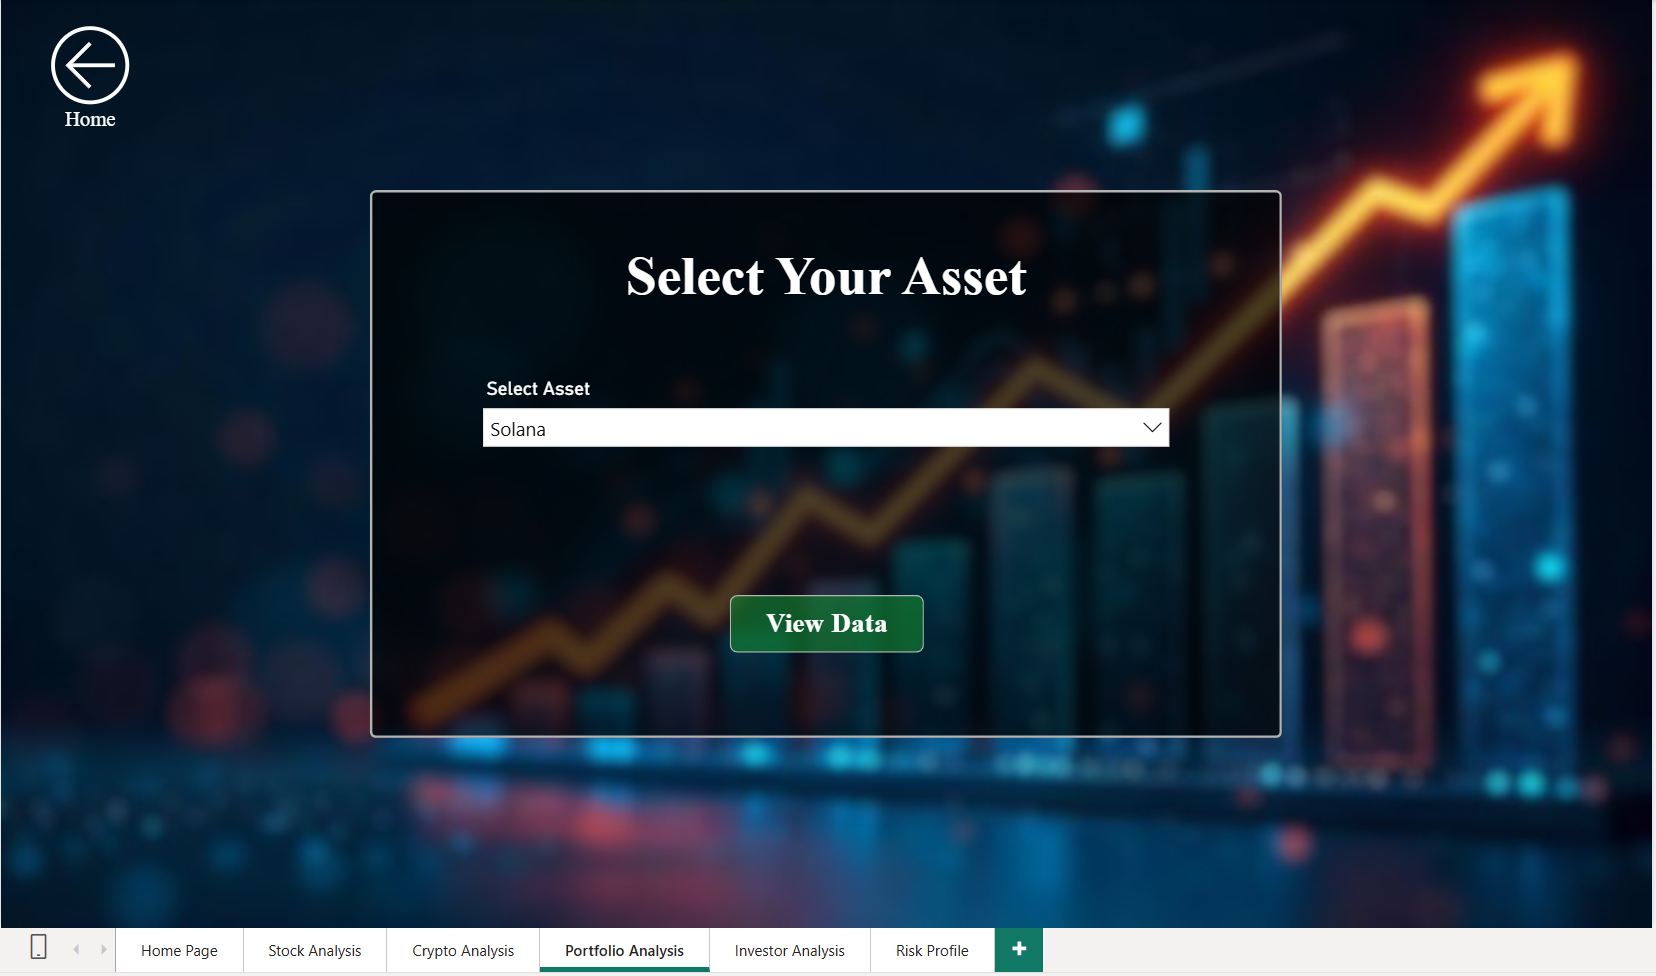

This screenshot's page, from the dashboard's own definition file:
{"tool":"powerbi","page":{"name":"Portfolio Analysis","canvas":[1280,720],"ordinal":3},"visuals":[{"type":"imageDB603108E3FF4EBFB8047F5653368E8C","fields":{"imageUrl":["Dim_Assets.Logo"]},"box":[1063.7,10,207.5,220],"z":0,"group":"g1"},{"type":"group","id":"g1","title":"Dashboard","box":[9,10,1262.2,701.2],"z":1000},{"type":"card","title":"A","fields":{"Values":["Avg(Facts_stock.Open)"]},"box":[9,111.8,227.6,116.4],"z":1000,"group":"g1"},{"type":"card","fields":{"Values":["Avg(Facts_stock.Close)"]},"box":[281.3,111.8,227.6,118.5],"z":2000,"group":"g1"},{"type":"card","fields":{"Values":["Max(Facts_stock.High)"]},"box":[553.6,111.8,227.6,118.5],"z":3000,"group":"g1"},{"type":"card","fields":{"Values":["Min(Facts_stock.Low)"]},"box":[825.9,111.8,227.6,118.5],"z":4000,"group":"g1"},{"type":"lineChart","title":"Closing Price Trend","fields":{"Category":["Facts_stock.Date"],"Y":["Avg(Facts_stock.Close)"]},"box":[10,240,1261.2,471.2],"z":5000,"group":"g1"},{"type":"card","fields":{"Values":["Min(Dim_Assets.AssetName)"]},"box":[397,21.6,487.2,74.4],"z":6000,"group":"g1"},{"type":"actionButton","box":[33.7,10,76.2,86.2],"z":7000,"group":"g1"}]}

Visuals, with their boxes on the page's 1280x720 design canvas (x1, y1, x2, y2). These are canvas units, not pixel positions in the 1656x976 screenshot, which may show the page scaled, cropped or inside an application window:
imageDB603108E3FF4EBFB8047F5653368E8C - Dim_Assets.Logo: [x1=1064, y1=10, x2=1271, y2=230]
"Dashboard" group: [x1=9, y1=10, x2=1271, y2=711]
"A" card: [x1=9, y1=112, x2=237, y2=228]
card - Avg(Facts_stock.Close): [x1=281, y1=112, x2=509, y2=230]
card - Max(Facts_stock.High): [x1=554, y1=112, x2=781, y2=230]
card - Min(Facts_stock.Low): [x1=826, y1=112, x2=1054, y2=230]
"Closing Price Trend" lineChart: [x1=10, y1=240, x2=1271, y2=711]
card - Min(Dim_Assets.AssetName): [x1=397, y1=22, x2=884, y2=96]
actionButton: [x1=34, y1=10, x2=110, y2=96]
